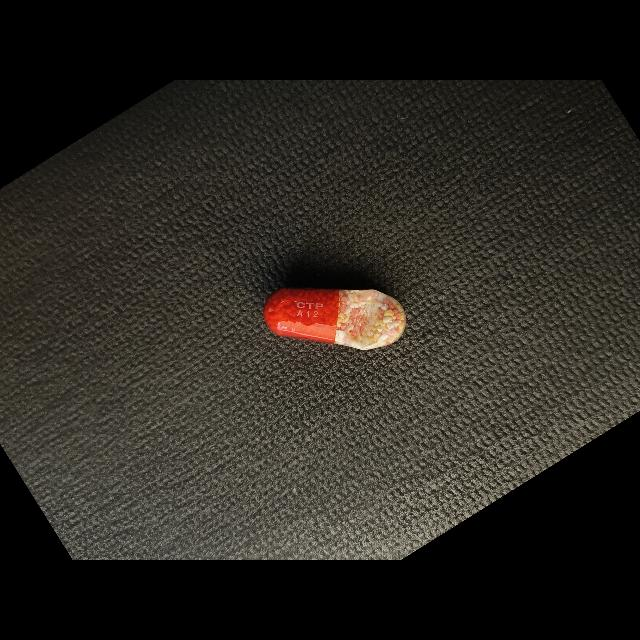Defective Capsule: (264, 289, 406, 350)
